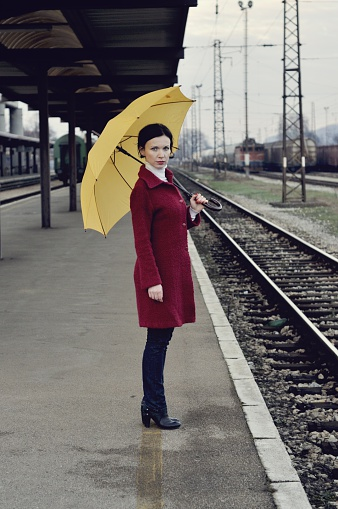em pe: (115, 113, 195, 431)
